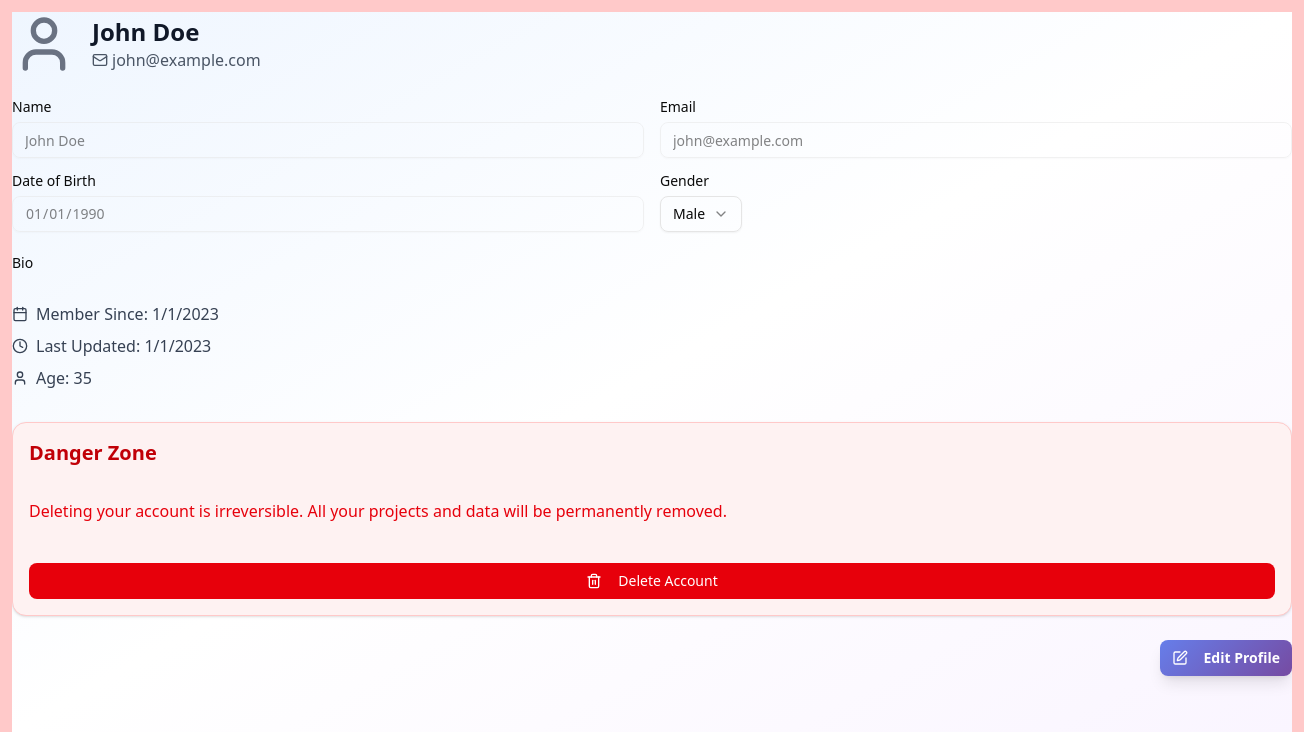
it: ProfileEditForm Component › cancels edit mode and resets form
Enter edit mode
Click the button "Edit Profile" at (1226, 658), box [1160,640,1292,676]
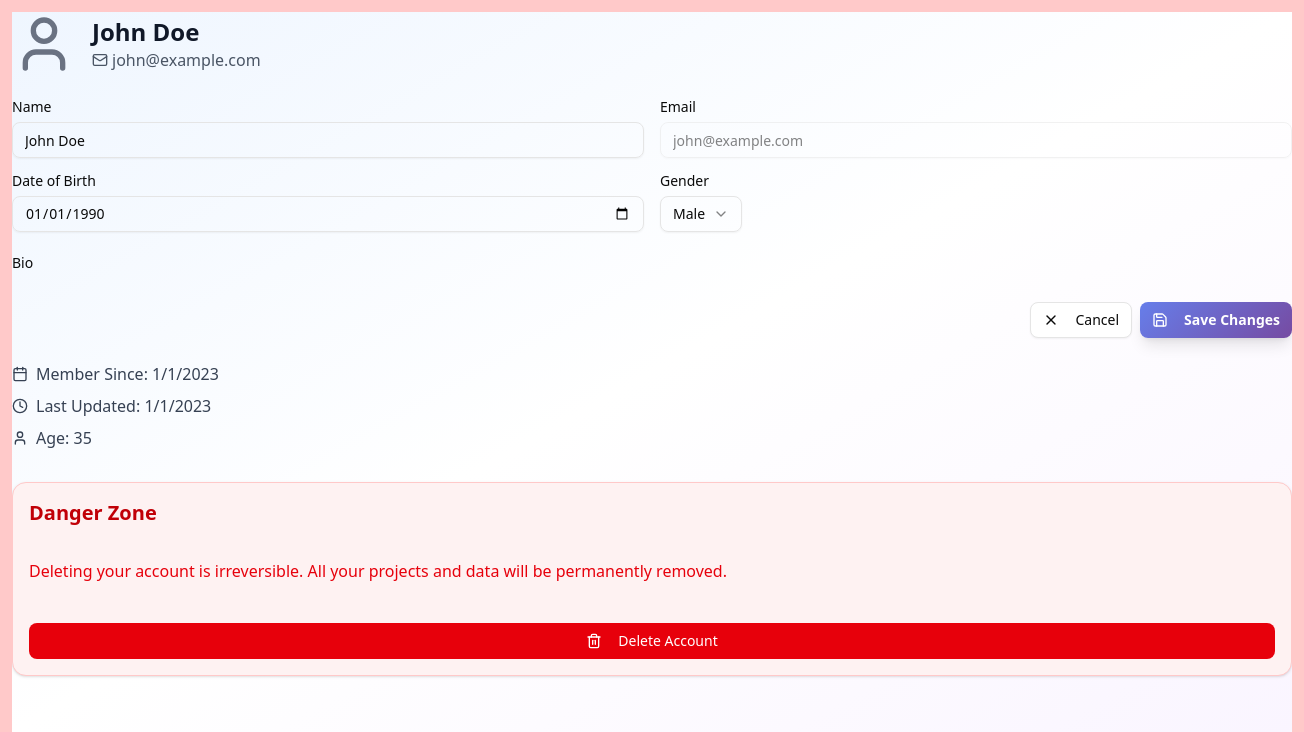
Modify name
Replace the text in the field showing "John Doe" with "Jane Doe" at (328, 140), box [12,122,644,158]
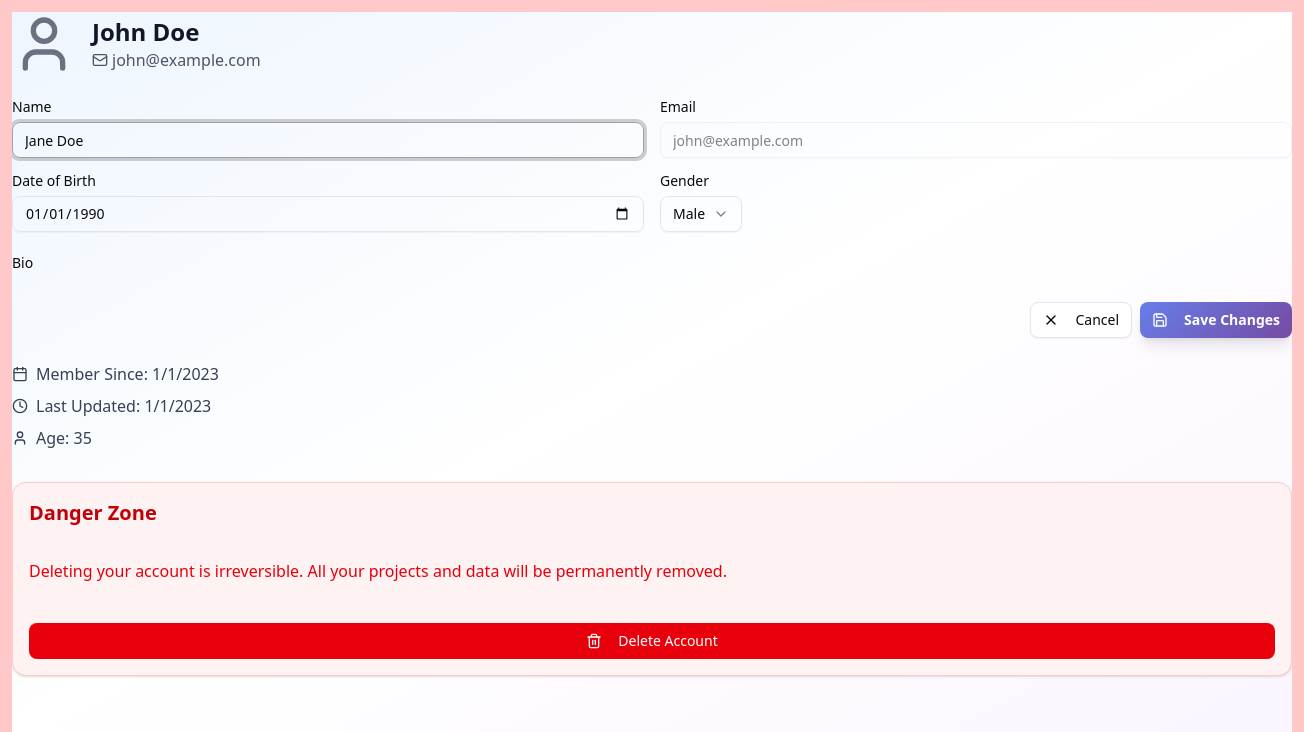
Click the button "Cancel" at (1081, 320), box [1030,302,1132,338]
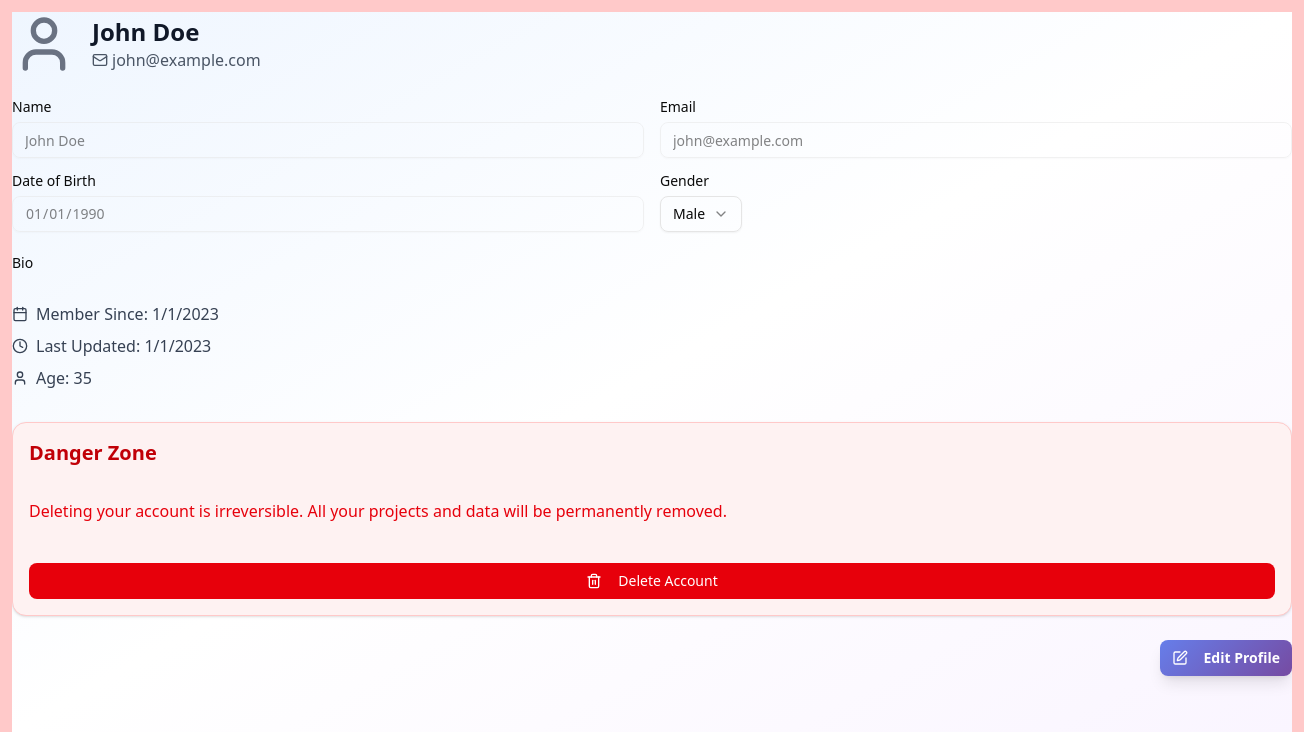
Now the field showing "John Doe" is shown, box [12,122,644,158]
